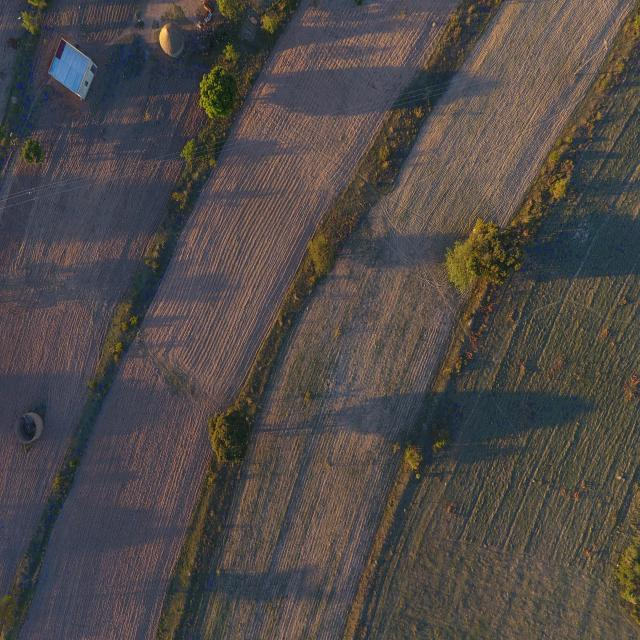boundaries: (150, 11, 489, 614), (341, 74, 632, 631), (18, 41, 279, 581)
